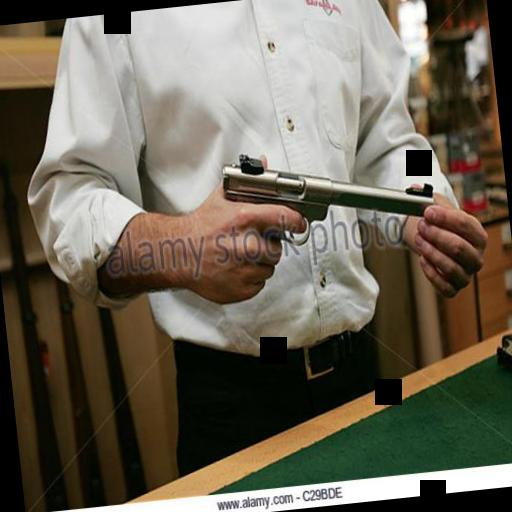Handgun: (210, 122, 442, 312)
